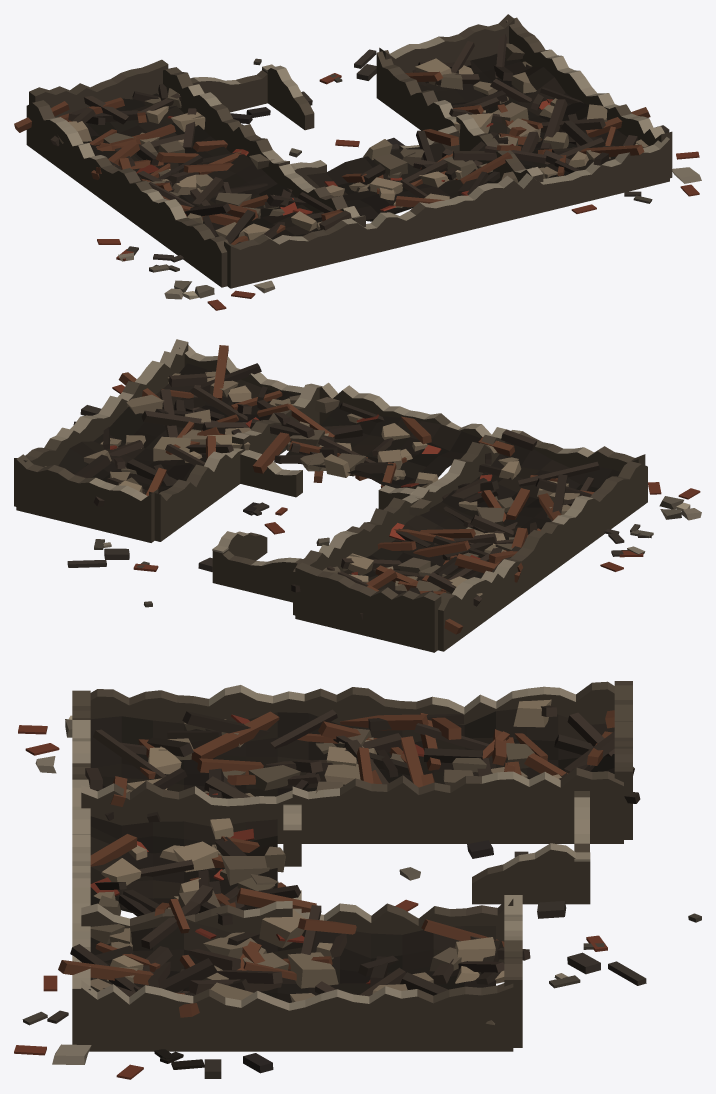
Rendered from VerBuild01b.glb.
The picture shows the model from 3 angles, top to bottom: view 1: azimuth 30°, elevation 25°; view 2: azimuth 150°, elevation 25°; view 3: azimuth 270°, elevation 25°; orthographic projection. The views are drawn at different scales.
Parts seen in each view (by area): view 1: VerBuild01b_wall; view 2: VerBuild01b_wall; view 3: VerBuild01b_wall.
Boxes of the visible parts, x1=… form: VerBuild01b_wall: x1=14, y1=14, x2=701, y2=310; VerBuild01b_wall: x1=14, y1=339, x2=701, y2=652; VerBuild01b_wall: x1=14, y1=681, x2=701, y2=1079.
Bounding box in the file's own units: 17.13 × 1.55 × 13.37.
